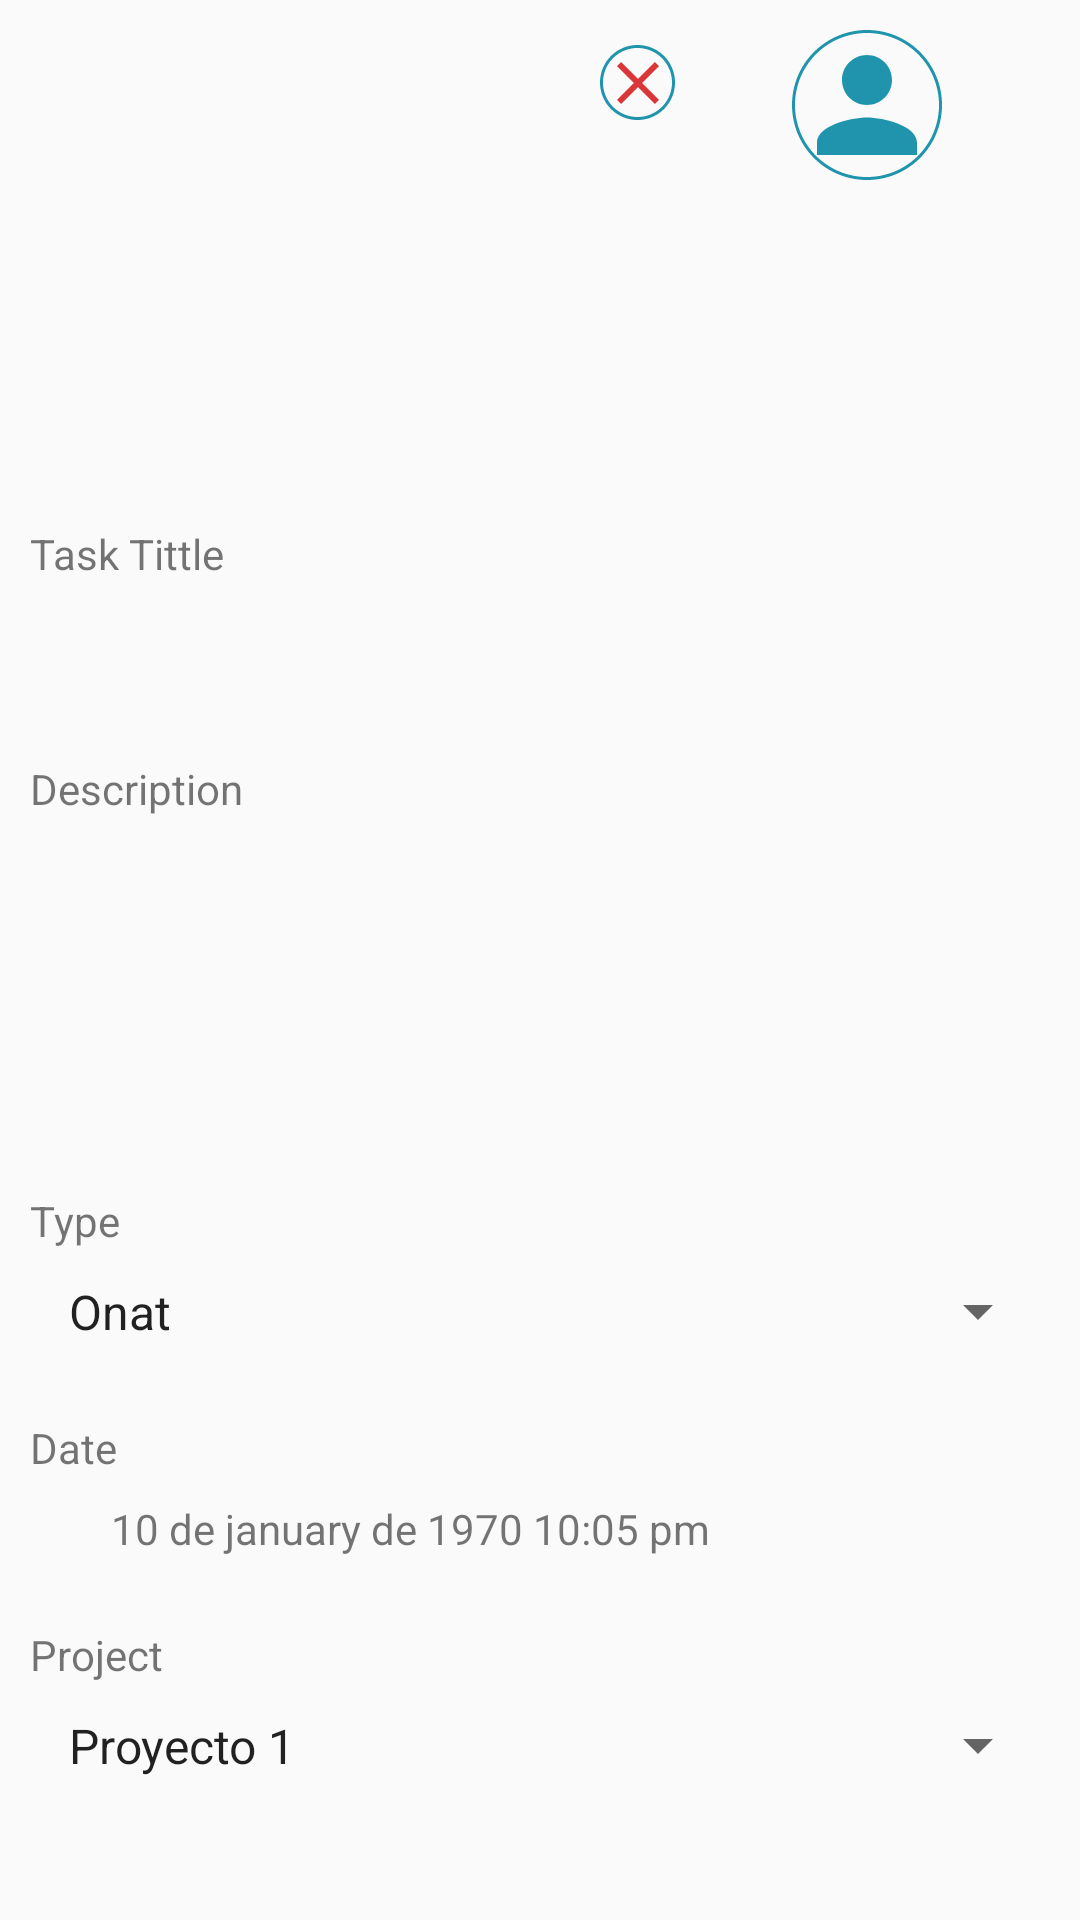

Icons on this 1080*1920 Android screen, each with its box as box=[x1, y1, x2, y2]:
close: box=[600, 45, 675, 120]
person: box=[792, 30, 942, 180]
